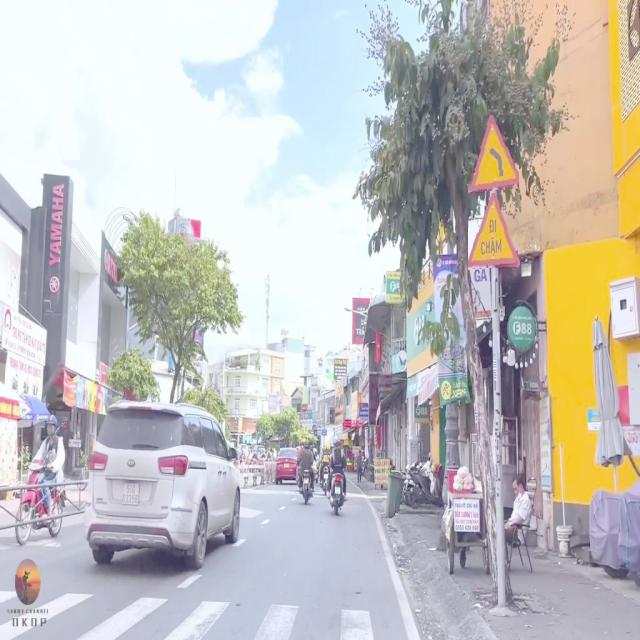cho_ngoat_nguy_hiem_ben_trai: (468, 115, 520, 192)
di_cham: (468, 193, 520, 270)
